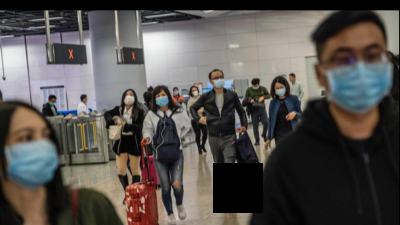with_mask: (325, 42, 394, 115), (4, 124, 57, 188), (156, 92, 169, 109), (212, 75, 224, 89), (275, 85, 287, 97), (124, 92, 135, 105), (192, 89, 199, 97), (50, 99, 56, 106), (252, 85, 260, 90), (84, 96, 88, 105), (174, 90, 179, 96)
without_mask: (289, 76, 295, 84)
